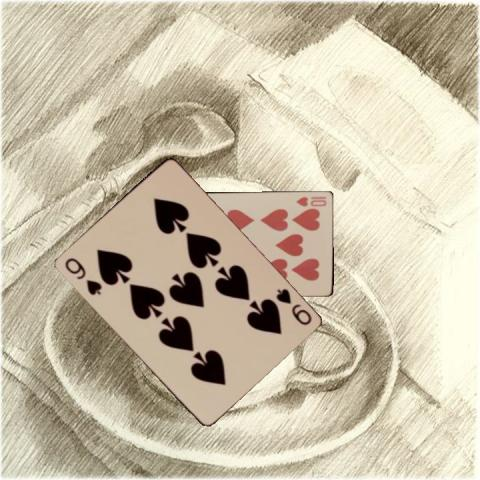10h: (294, 194, 328, 208)
9s: (61, 254, 104, 297), (272, 286, 313, 328)
